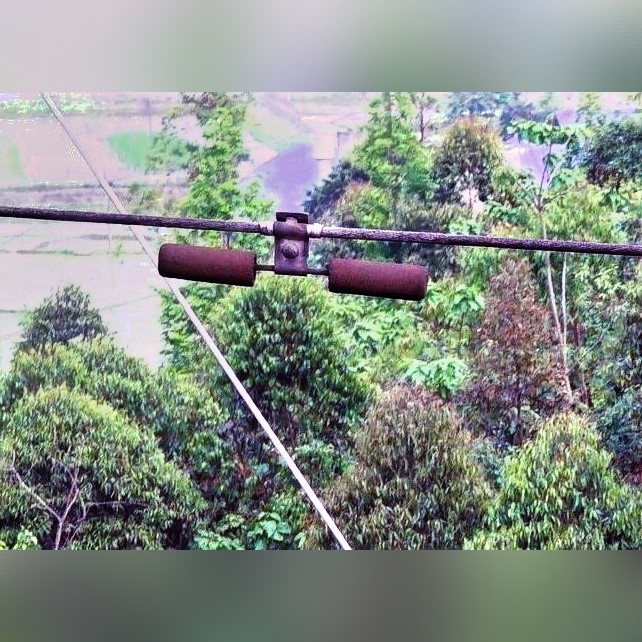Shockproof hammer: (142, 206, 443, 302)
